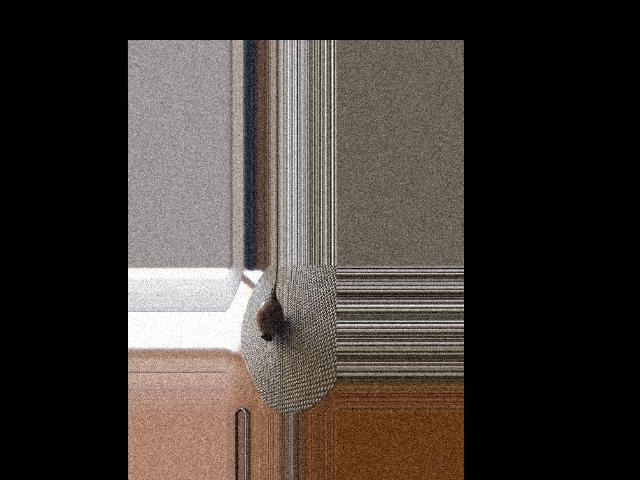beet: (256, 265, 283, 341)
